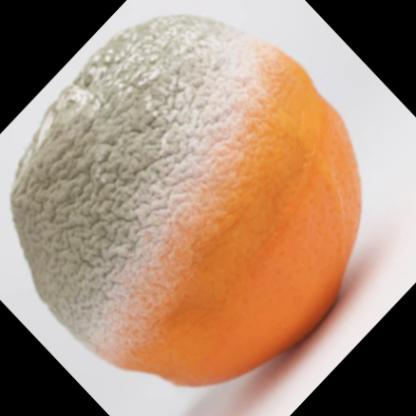rotten: (12, 16, 364, 390)
